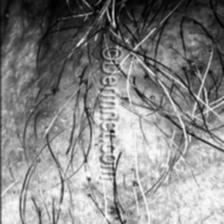Toxin: (181, 63, 211, 77), (146, 92, 158, 100)
